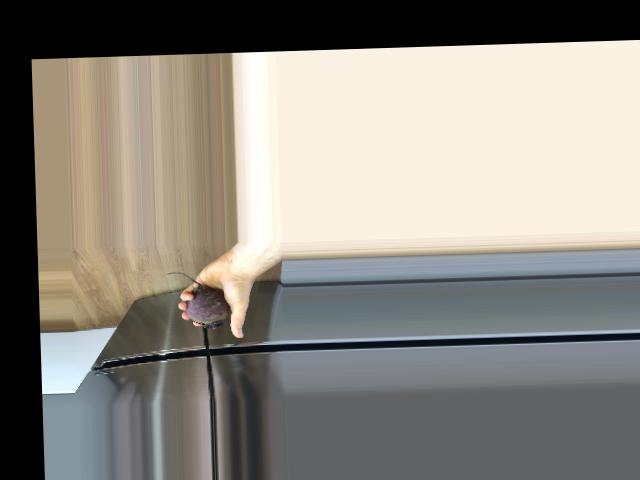beet: (165, 270, 230, 330)
